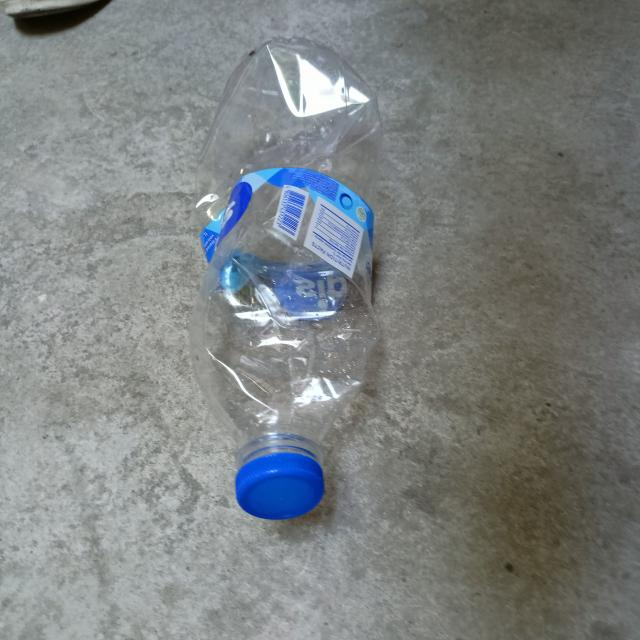Bottle: (194, 37, 383, 524)
